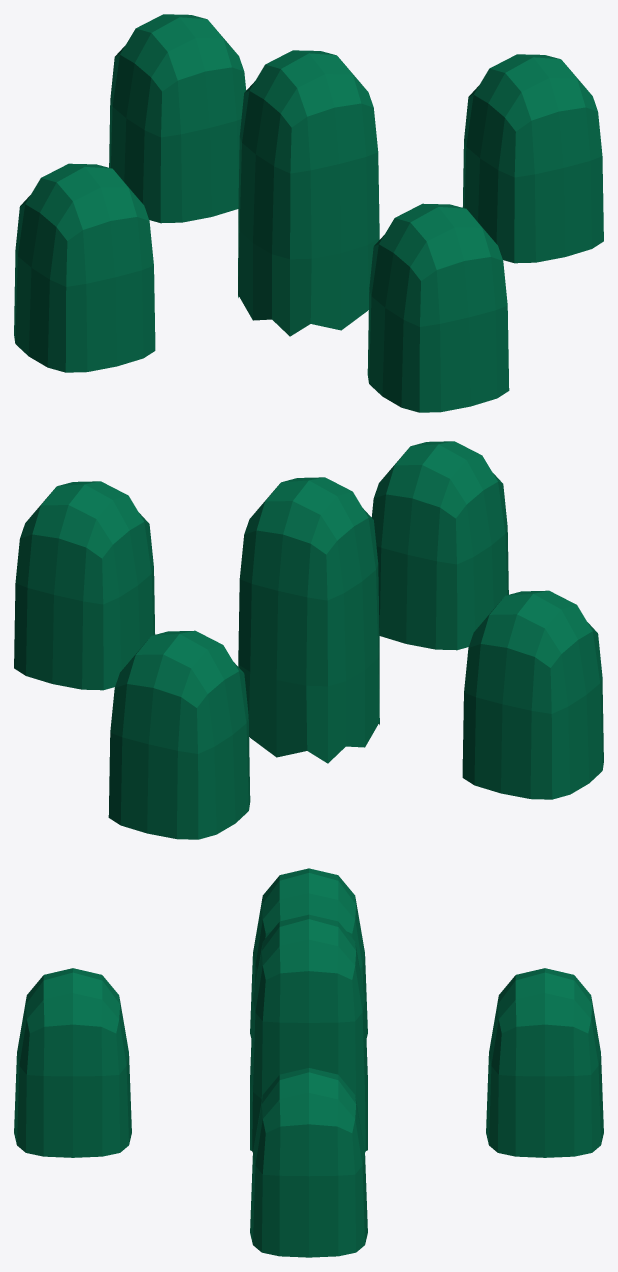
File: grass-winter.gltf
The picture shows the model from 3 angles, top to bottom: view 1: azimuth 30°, elevation 25°; view 2: azimuth 150°, elevation 25°; view 3: azimuth 270°, elevation 25°; orthographic projection. The views are drawn at different scales.
Parts seen in each view (by area): view 1: grass; view 2: grass; view 3: grass.
Boxes of the visible parts, left/top/right/bottom form: grass: left=14, top=14, right=603, bottom=412; grass: left=14, top=441, right=603, bottom=839; grass: left=14, top=868, right=603, bottom=1257.
Bounding box in the file's own units: 0.3125 × 0.135 × 0.3125.
Materials: 1 (1 with a texture image).
